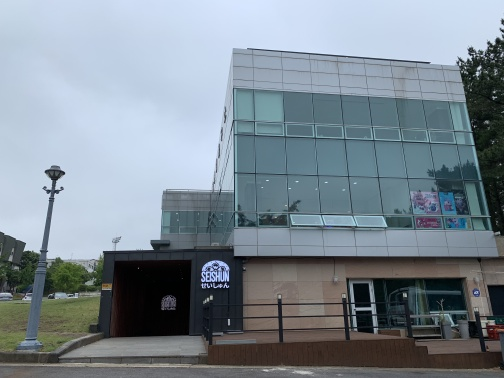Global House: (123, 43, 492, 349), (101, 161, 297, 343)
